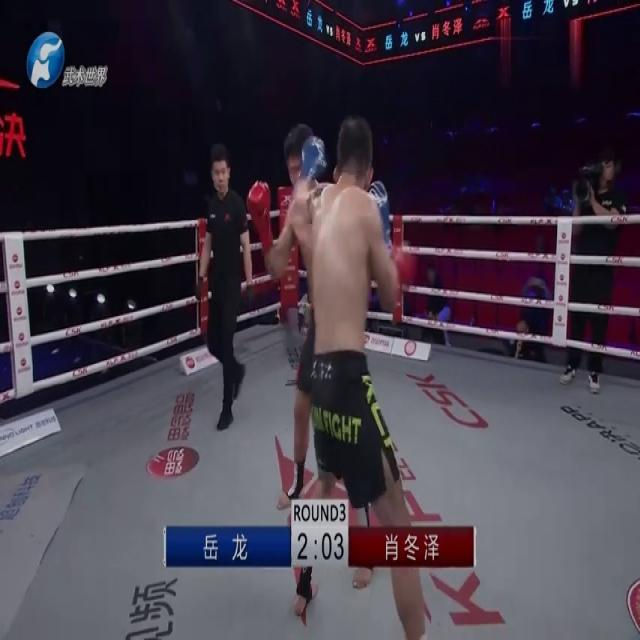fight: (263, 105, 435, 638)
non-fight: (195, 140, 257, 432), (563, 156, 617, 393)
